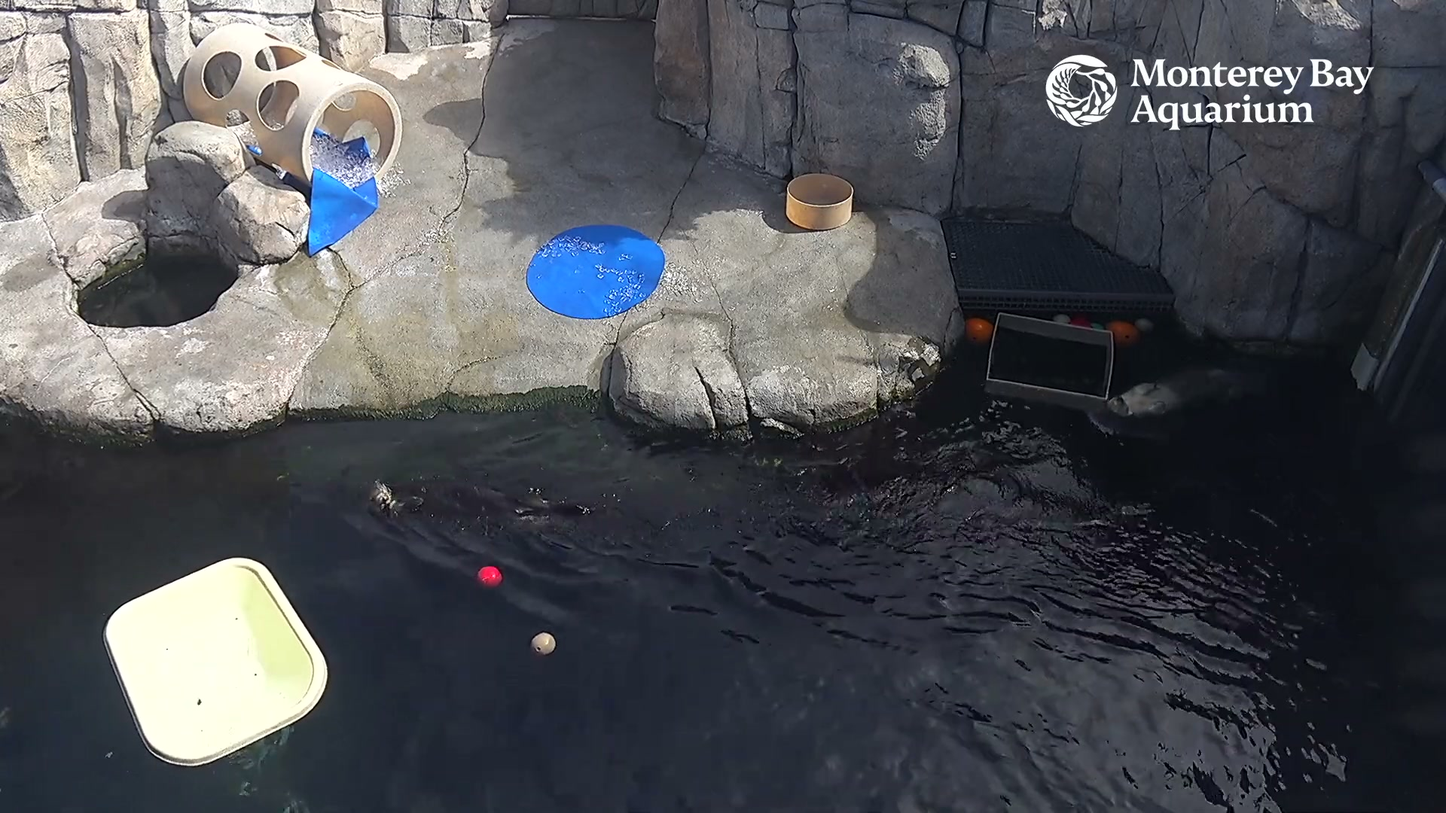Southern Sea Otter: (347, 458, 632, 562), (1094, 344, 1278, 434)
